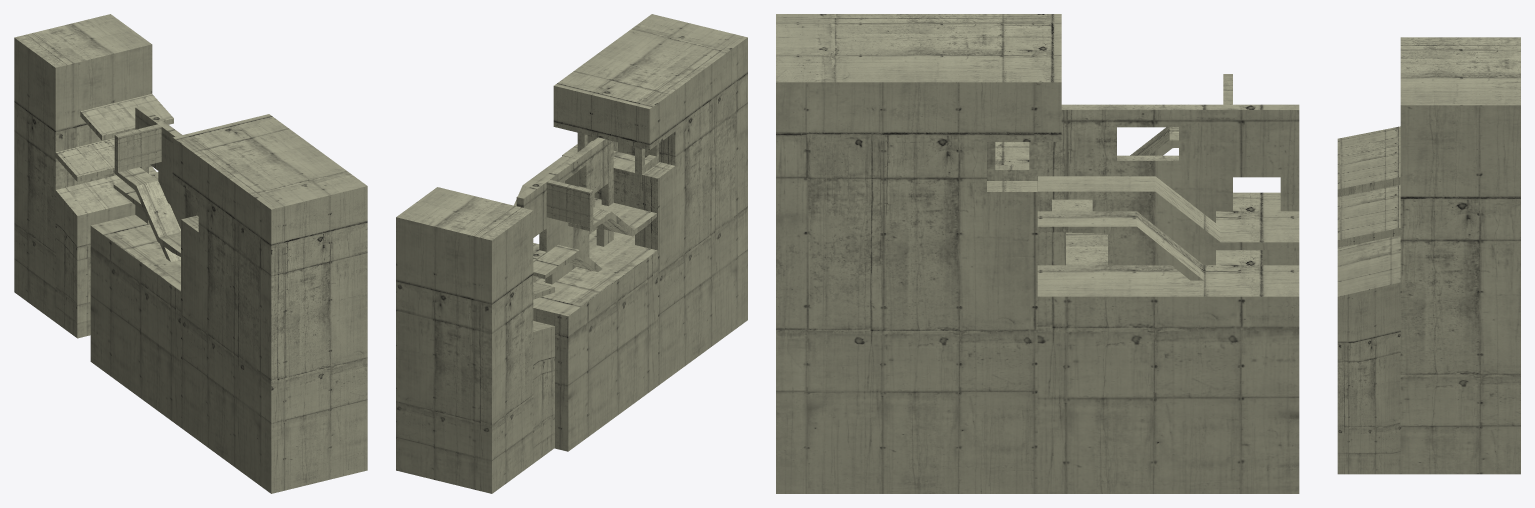
The model's file is SM_NeoLD_01_Block_00.fbx.
3 views of the same model, side by side, from view 1: azimuth 30°, elevation 25°; view 2: azimuth 150°, elevation 25°; view 3: azimuth 270°, elevation 25° (orthographic). The views are drawn at different scales.
Parts seen in each view (by area): view 1: SM_NeoLD_01_Block_00; view 2: SM_NeoLD_01_Block_00; view 3: SM_NeoLD_01_Block_00.
Boxes of the visible parts, box(x1,y1,x2,y2) form: SM_NeoLD_01_Block_00: box(14, 14, 367, 493); SM_NeoLD_01_Block_00: box(396, 14, 747, 493); SM_NeoLD_01_Block_00: box(776, 14, 1520, 493).
Size of the model in its own units: 1441 by 4059 by 6653.
